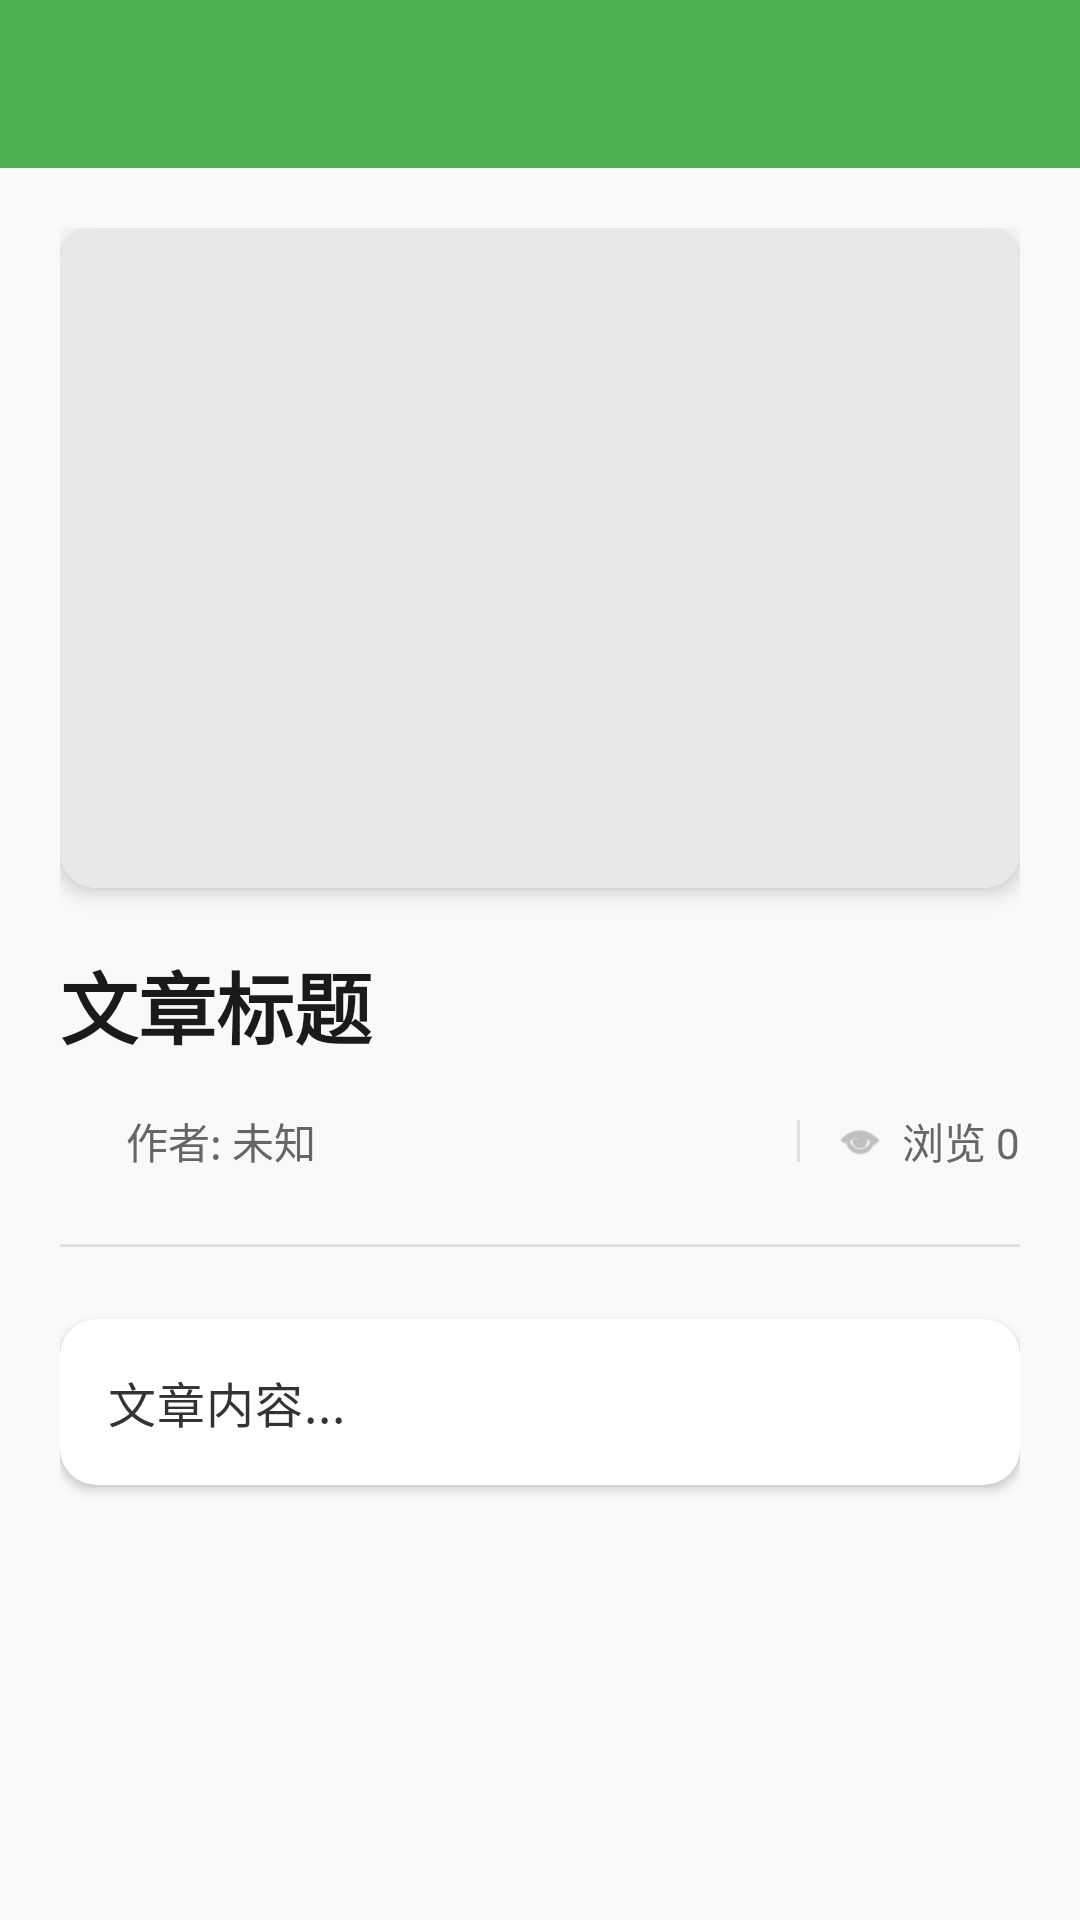

Screen size 1080×1920. Icon name, then its box in pixels as (x1, y1, x2, y2):
view: (841, 1130, 879, 1154)
